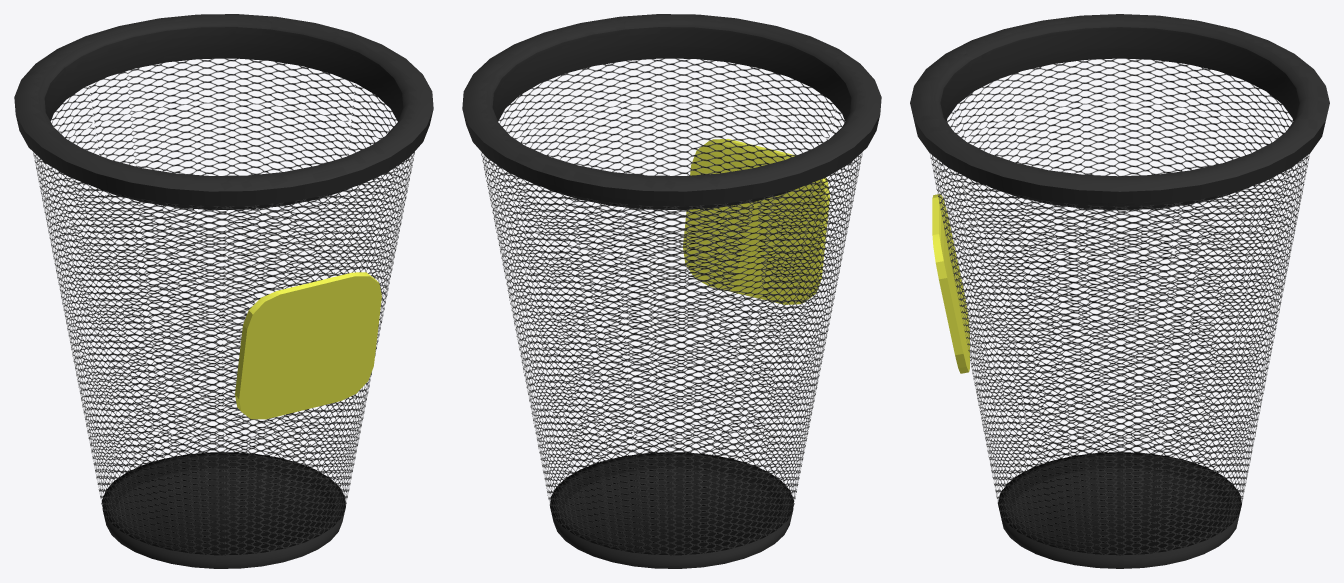
Rendered from Dustbin-v3.glb.
3 renders of one model, left to right at view 1: azimuth 30°, elevation 25°; view 2: azimuth 150°, elevation 25°; view 3: azimuth 270°, elevation 25°, orthographic.
Visible parts, largest first — view 1: Cylinder.001, Text; view 2: Cylinder.001, Text; view 3: Cylinder.001, Text.
Boxes of the visible parts, x1,y1,x2,y2 form: Cylinder.001: (14,14,433,568); Text: (235,272,381,419); Cylinder.001: (462,14,881,568); Text: (683,139,829,304); Cylinder.001: (910,14,1329,568); Text: (932,194,969,373).
Size of what is drawn, in the model's own units: 1.77 by 1.95 by 1.77.
3 materials, 2 textured.
